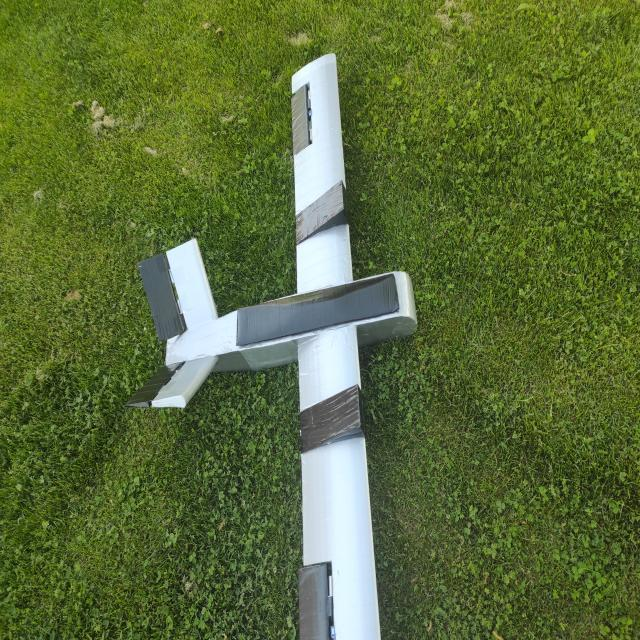iha: (128, 39, 418, 639)
